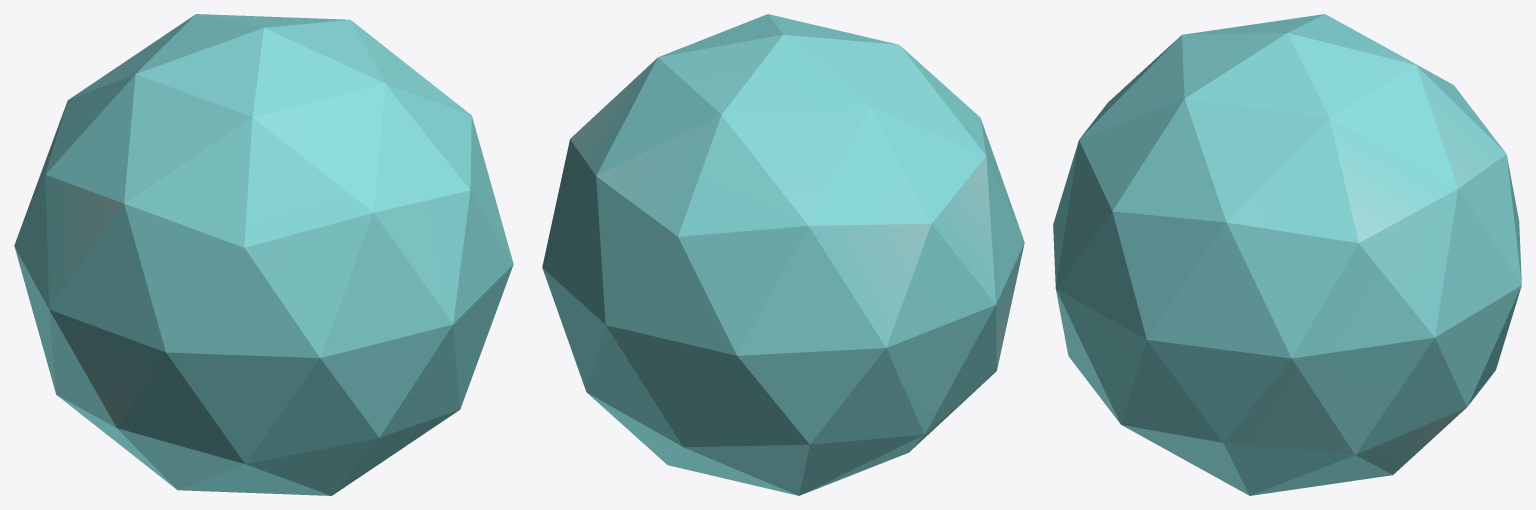
3 renders of one model, left to right at view 1: azimuth 30°, elevation 25°; view 2: azimuth 150°, elevation 25°; view 3: azimuth 270°, elevation 25°, orthographic. The views are drawn at different scales.
Visible parts, largest first — view 1: facet; view 2: facet; view 3: facet.
Part boxes in pixels (x1,y1,x2,y2): facet: [14, 14, 513, 495]; facet: [542, 14, 1024, 495]; facet: [1053, 14, 1521, 495].
Bounding box in the file's own units: 0.5 × 0.5 × 0.4781.
